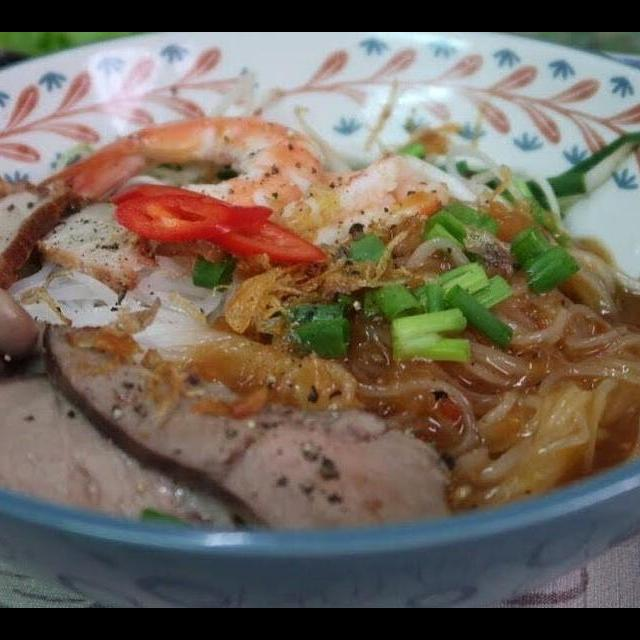banh hu tieu: (375, 191, 640, 520), (0, 228, 263, 375)
gan: (36, 311, 460, 538), (0, 366, 249, 546)
tom: (25, 101, 335, 272)
